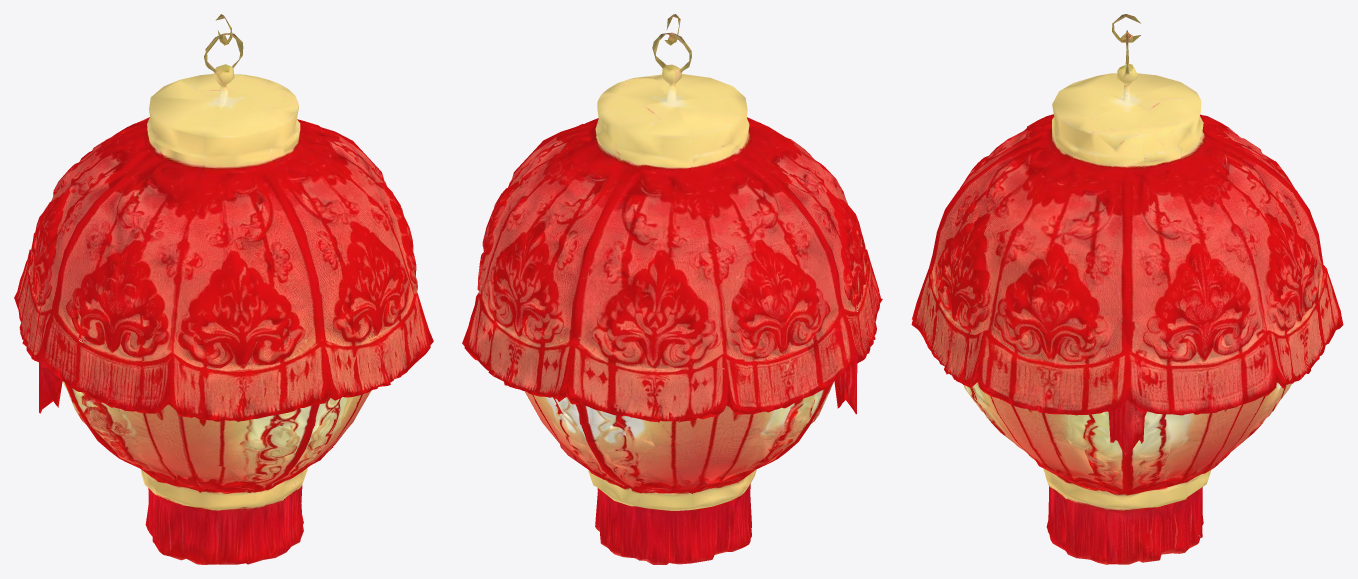
Rendered from lib_lantern.mid.glb.
3 views of the same model, side by side, from view 1: azimuth 30°, elevation 25°; view 2: azimuth 150°, elevation 25°; view 3: azimuth 270°, elevation 25° (orthographic).
Bounding box in the file's own units: 1.41 × 1.9 × 1.43.
1 material, 1 textured.
